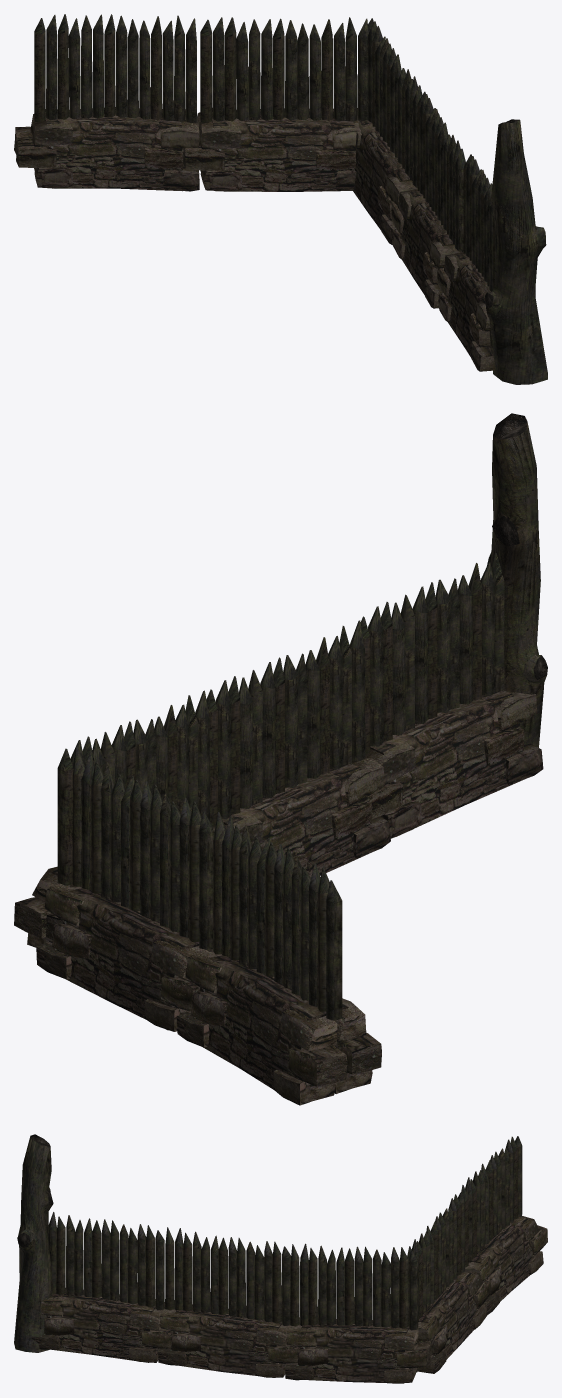
Rendered from G3_Myrtana_Ardea_Palisaden_02.obj.
The picture shows the model from 3 angles, top to bottom: view 1: azimuth 30°, elevation 25°; view 2: azimuth 150°, elevation 25°; view 3: azimuth 270°, elevation 25°; orthographic projection. The views are drawn at different scales.
Parts seen in each view (by area): view 1: G3_Myrtana_Ardea_Palisaden_02_1, G3_Myrtana_Ardea_Palisaden_02_0; view 2: G3_Myrtana_Ardea_Palisaden_02_1, G3_Myrtana_Ardea_Palisaden_02_0, G3_Myrtana_Ardea_Palisaden_02_2; view 3: G3_Myrtana_Ardea_Palisaden_02_1, G3_Myrtana_Ardea_Palisaden_02_0, G3_Myrtana_Ardea_Palisaden_02_2.
Part boxes in pixels (x1=…): G3_Myrtana_Ardea_Palisaden_02_1: x1=34, y1=14, x2=547, y2=384; G3_Myrtana_Ardea_Palisaden_02_0: x1=14, y1=107, x2=495, y2=371; G3_Myrtana_Ardea_Palisaden_02_1: x1=57, y1=422, x2=546, y2=1020; G3_Myrtana_Ardea_Palisaden_02_0: x1=14, y1=690, x2=543, y2=1105; G3_Myrtana_Ardea_Palisaden_02_2: x1=492, y1=413, x2=547, y2=680; G3_Myrtana_Ardea_Palisaden_02_1: x1=14, y1=1136, x2=522, y2=1352; G3_Myrtana_Ardea_Palisaden_02_0: x1=31, y1=1216, x2=547, y2=1383; G3_Myrtana_Ardea_Palisaden_02_2: x1=18, y1=1134, x2=53, y2=1247.
Bounding box in the file's own units: 8.24 × 6.3 × 14.84.
